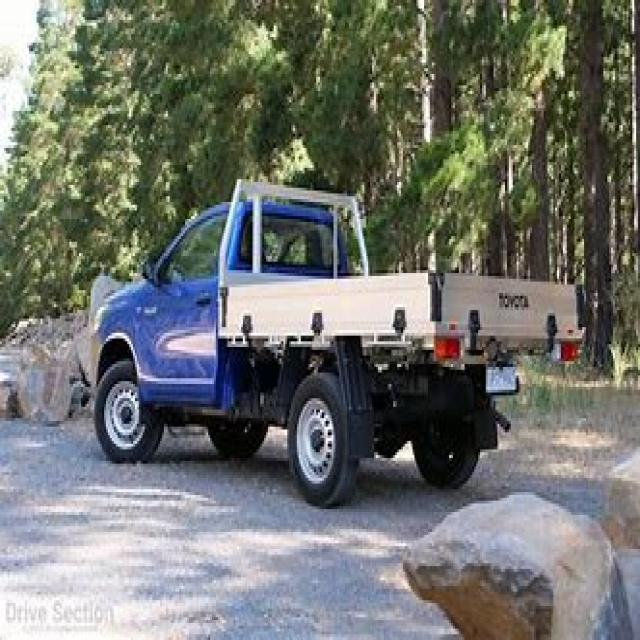light_vehicle: (81, 171, 592, 532)
